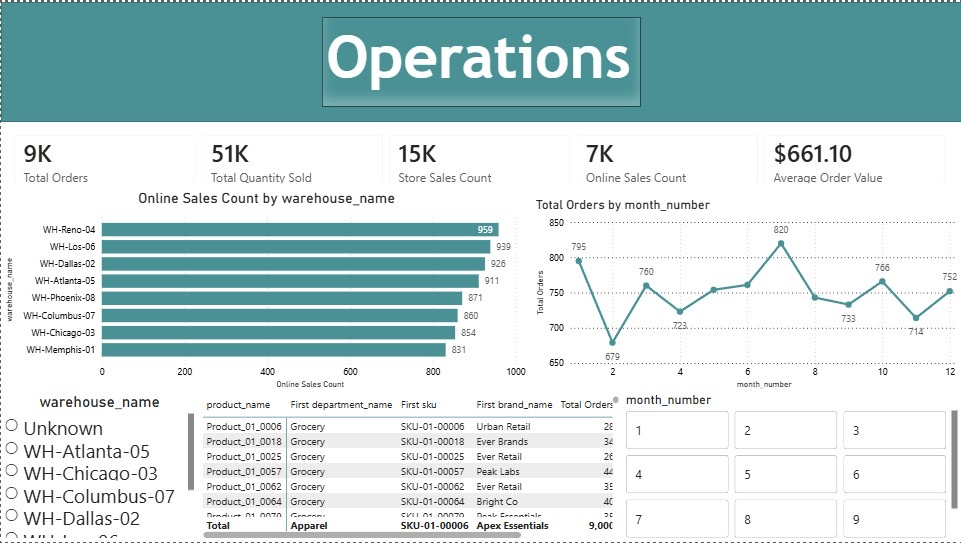

The dashboard page shown, as its layout file describes it:
{"tool":"powerbi","page":{"name":"Operations","canvas":[1280,720],"ordinal":3},"visuals":[{"type":"shape","box":[0,0,1920,160],"z":0},{"type":"textbox","box":[427.5,20,425,120],"z":1000},{"type":"cardVisual","fields":{"Data":["Measures (2).Total Orders","Measures (2).Total Quantity Sold","Measures (2).Store Sales Count","Measures (2).Online Sales Count","Measures (2).Average Order Value"]},"box":[0,160,1280,100],"z":2000},{"type":"barChart","fields":{"Category":["gold dim_warehouse.warehouse_name"],"Y":["Measures (2).Online Sales Count"]},"box":[0,250,708.3,270],"z":3000},{"type":"lineChart","fields":{"Y":["Measures (2).Total Orders"],"Category":["gold dim_date.month_number"]},"box":[708.3,260,571.7,260],"z":4000},{"type":"listSlicer","fields":{"Values":["gold dim_warehouse.warehouse_name"]},"box":[0,520,262.5,200],"z":5000},{"type":"advancedSlicerVisual","fields":{"Values":["gold dim_date.month_number"]},"box":[827.5,520,452.5,200],"z":6000},{"type":"pivotTable","fields":{"Rows":["gold dim_product.product_name"],"Values":["Min(gold dim_product.department_name)","Min(gold dim_product.sku)","Min(gold dim_product.brand_name)","Measures (2).Total Orders","Min(gold dim_product.package_size)"]},"box":[263.3,520,565,200],"z":7000}]}

Visuals, with their boxes in screenshot pixels (x1, y1, x2, y2), scaled from the page's 1280x720 canvas onto the 961x543 screenshot:
shape: {"x1": 0, "y1": 0, "x2": 960, "y2": 121}
textbox: {"x1": 321, "y1": 15, "x2": 640, "y2": 106}
cardVisual - Measures (2).Total Orders x Measures (2).Total Quantity Sold: {"x1": 0, "y1": 121, "x2": 960, "y2": 196}
barChart - gold dim_warehouse.warehouse_name x Measures (2).Online Sales Count: {"x1": 0, "y1": 189, "x2": 532, "y2": 392}
lineChart - Measures (2).Total Orders x gold dim_date.month_number: {"x1": 532, "y1": 196, "x2": 960, "y2": 392}
listSlicer - gold dim_warehouse.warehouse_name: {"x1": 0, "y1": 392, "x2": 197, "y2": 542}
advancedSlicerVisual - gold dim_date.month_number: {"x1": 621, "y1": 392, "x2": 960, "y2": 542}
pivotTable - gold dim_product.product_name x Min(gold dim_product.department_name): {"x1": 198, "y1": 392, "x2": 622, "y2": 542}
